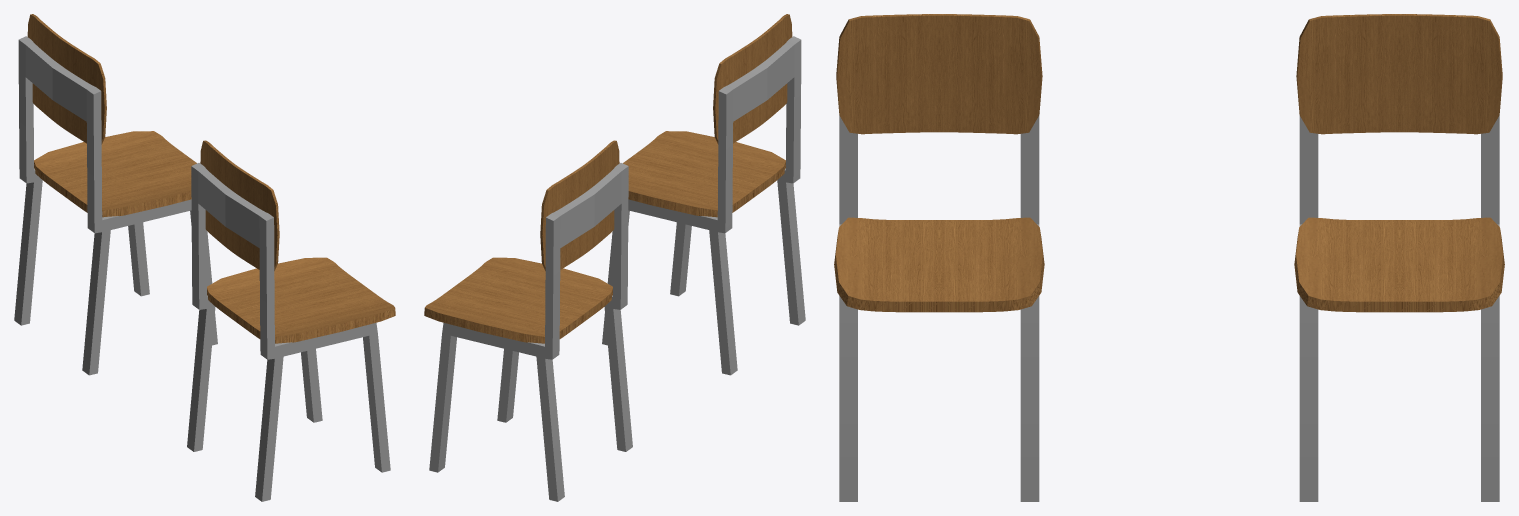
Rendered from SillasT_IzqUno.obj.
3 renders of one model, left to right at view 1: azimuth 30°, elevation 25°; view 2: azimuth 150°, elevation 25°; view 3: azimuth 270°, elevation 25°, orthographic. The views are drawn at different scales.
Visible parts, largest first — view 1: polySurface26; view 2: polySurface26; view 3: polySurface26.
Part boxes in pixels (box(x1,y1,x2,y2)): polySurface26: box(14, 14, 395, 501); polySurface26: box(424, 14, 805, 501); polySurface26: box(834, 14, 1504, 501).
Bounding box in the file's own units: 0.8412 × 1.78 × 2.64.
4 materials, 4 textured.
